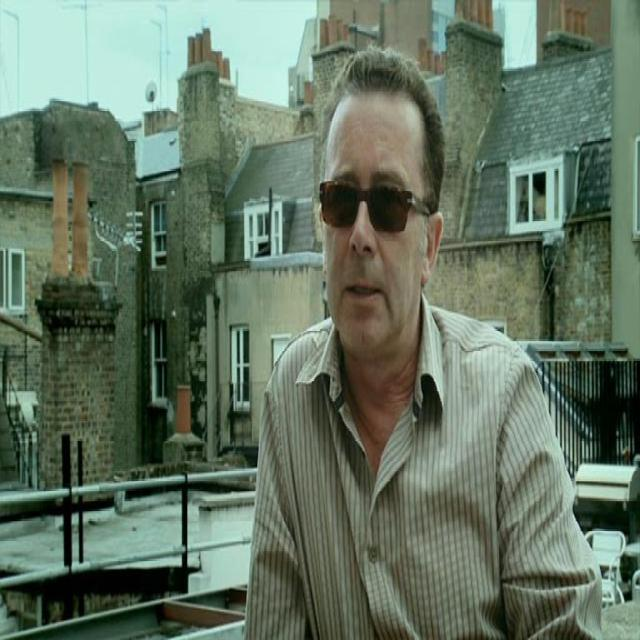Face: (323, 97, 426, 349)
